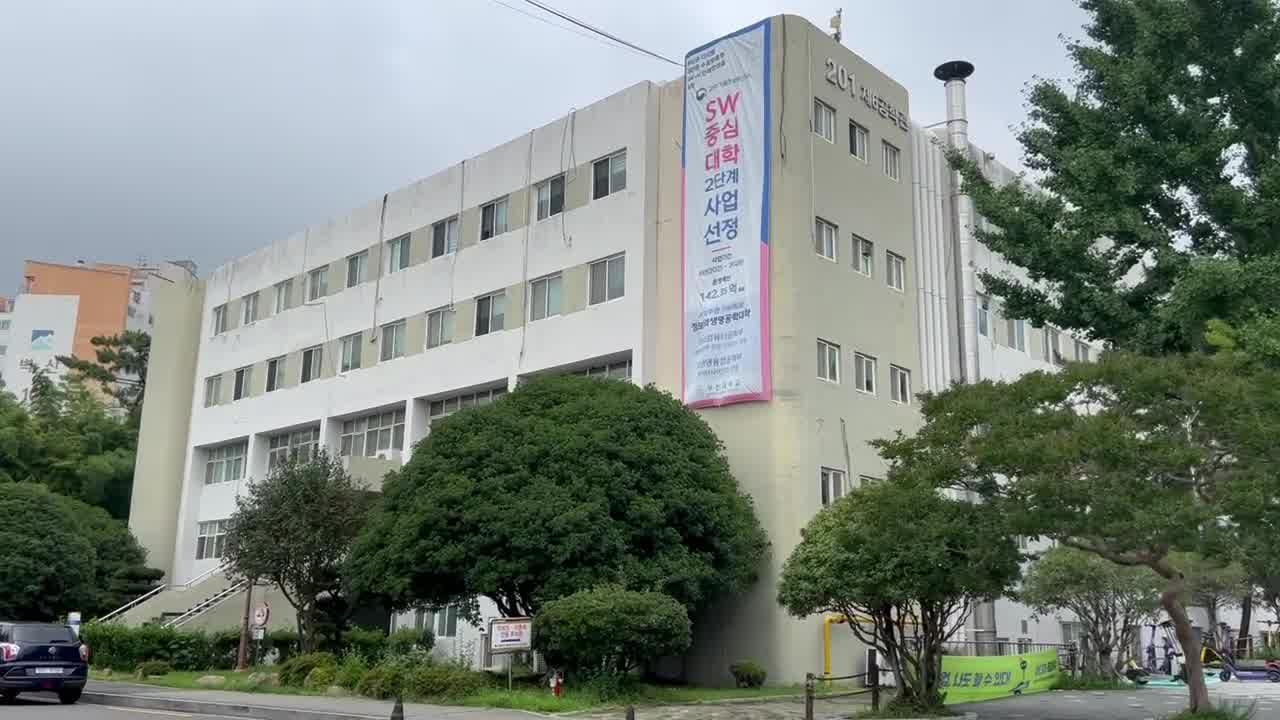building: (168, 136, 680, 389)
